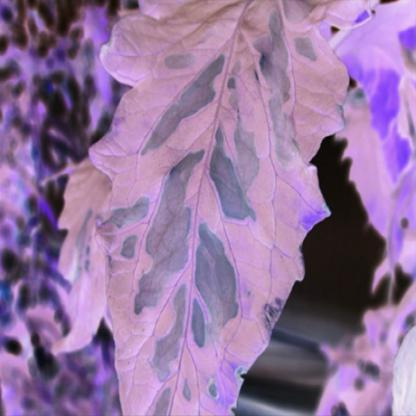Tomato leaf bacterial spot: (91, 7, 356, 412)
